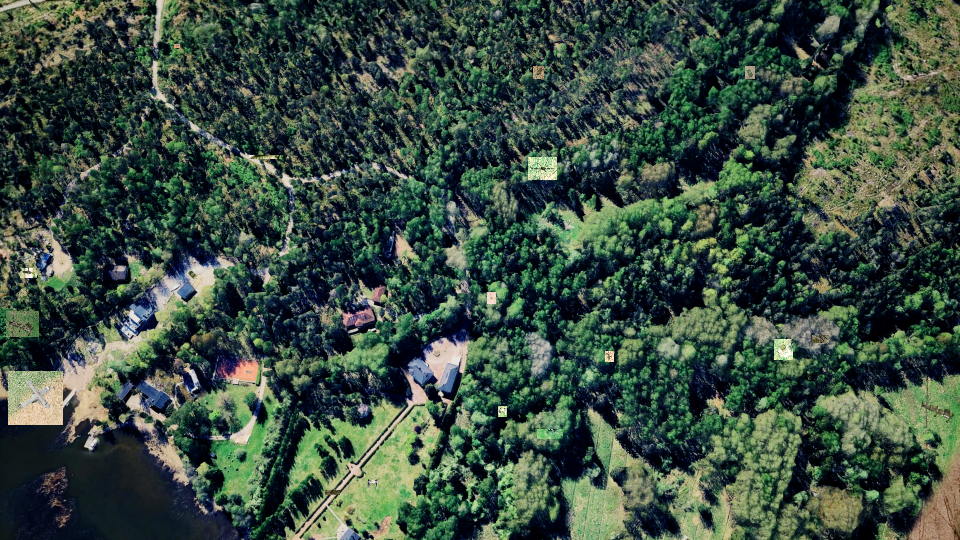condor: (8, 371, 63, 425)
hangar: (249, 155, 289, 159)
helicopter: (528, 157, 557, 180)
jammer: (745, 66, 755, 79)
jet_plane: (537, 429, 563, 439)
large_launcher: (6, 311, 39, 337)
large_tower: (812, 335, 829, 343)
medium_launcher: (325, 490, 340, 495)
medium_plane: (20, 268, 37, 278)
mine_roller: (533, 66, 544, 79)
small_launcher: (487, 292, 496, 304)
small_plane: (605, 351, 614, 362)
small_tower: (774, 339, 793, 360)
spacecraft: (498, 406, 507, 417)
ta-ta: (174, 44, 180, 48)
tank: (81, 172, 90, 176)
